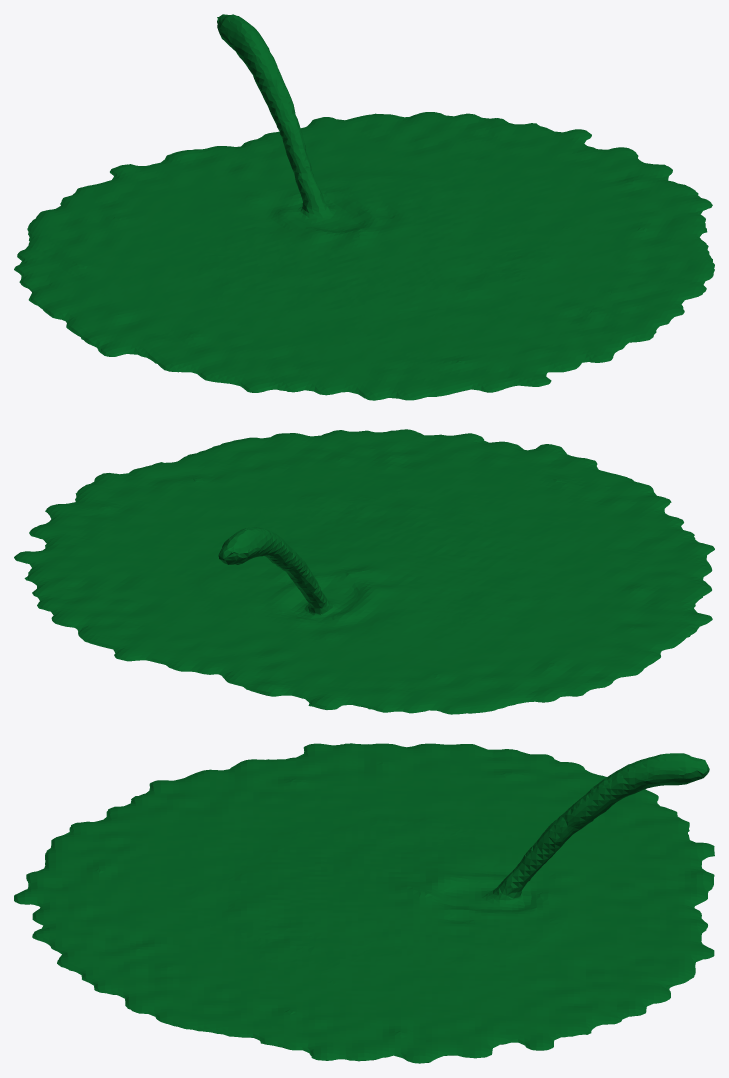
The model's file is fluid_56.fbx.
The picture shows the model from 3 angles, top to bottom: view 1: azimuth 30°, elevation 25°; view 2: azimuth 150°, elevation 25°; view 3: azimuth 270°, elevation 25°; orthographic projection. The views are drawn at different scales.
Visible parts, largest first — view 1: Cube; view 2: Cube; view 3: Cube.
Boxes of the visible parts, bbox=[...] form: Cube: bbox=[14, 14, 714, 400]; Cube: bbox=[14, 429, 714, 714]; Cube: bbox=[14, 743, 714, 1063].
Size of the model in its own units: 804 by 177 by 746.
